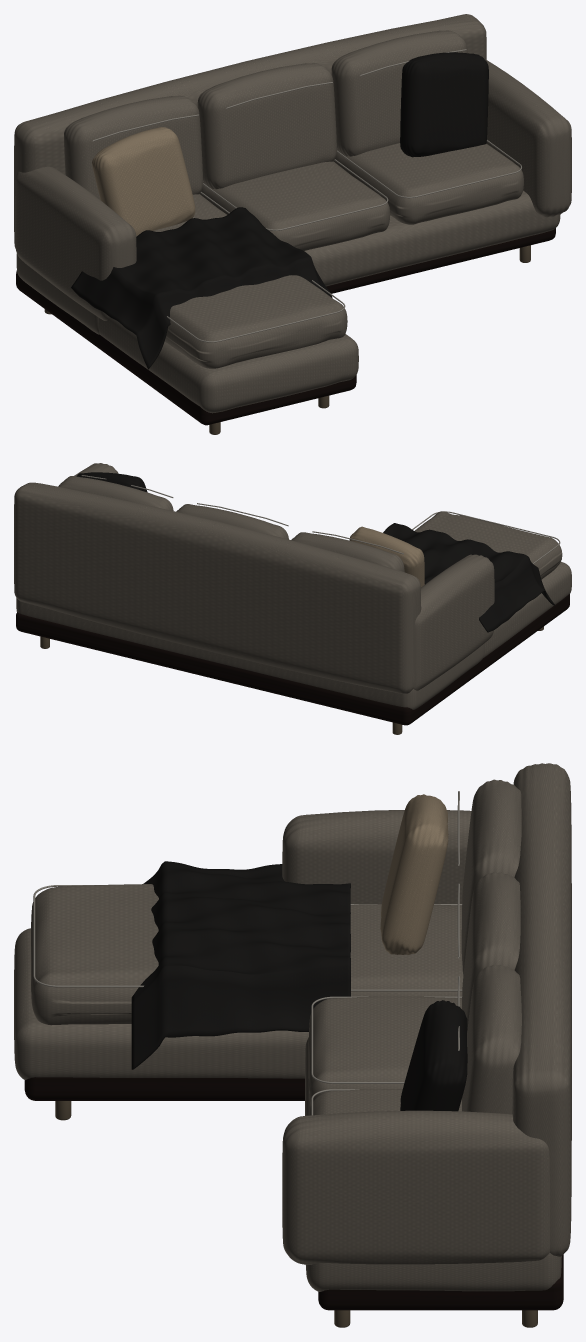
Rendered from sectional-sofa.glb.
The picture shows the model from 3 angles, top to bottom: view 1: azimuth 30°, elevation 25°; view 2: azimuth 150°, elevation 25°; view 3: azimuth 270°, elevation 25°; orthographic projection. The views are drawn at different scales.
Parts seen in each view (by area): view 1: Casually draped charcoal throw, Back pillow 1, Extended chaise cushion, Long upholstered apron, Rounded upholstered arm, Chaise upholstered apron, Seat cushion 1, Long upholstered back, Seat cushion 2, Decorative throw cushion 1, Back pillow 2, Rounded upholstered arm.001 (+5 smaller); view 2: Long upholstered back, Long walnut chassis, Rounded upholstered arm, Long upholstered apron, Casually draped charcoal throw, Extended chaise cushion, Chaise upholstered apron, Back pillow 0, Back pillow 2, Decorative throw cushion 0, Back pillow 1, Chaise walnut chassis (+1 smaller); view 3: Rounded upholstered arm.001, Casually draped charcoal throw, Long upholstered back, Extended chaise cushion, Chaise upholstered apron, Rounded upholstered arm, Seat cushion 1, Seat cushion 0, Decorative throw cushion 0, Long upholstered apron, Back pillow 2, Chaise walnut chassis (+5 smaller).
Boxes of the visible parts, left/top/right/bottom form: Casually draped charcoal throw: left=71, top=207, right=332, bottom=369; Back pillow 1: left=197, top=63, right=336, bottom=189; Extended chaise cushion: left=164, top=275, right=347, bottom=368; Long upholstered apron: left=16, top=190, right=560, bottom=334; Rounded upholstered arm: left=15, top=166, right=136, bottom=320; Chaise upholstered apron: left=99, top=317, right=358, bottom=413; Seat cushion 1: left=200, top=161, right=390, bottom=250; Long upholstered back: left=14, top=14, right=486, bottom=248; Seat cushion 2: left=333, top=143, right=523, bottom=224; Decorative throw cushion 1: left=400, top=52, right=488, bottom=157; Back pillow 2: left=331, top=30, right=467, bottom=156; Rounded upholstered arm.001: left=485, top=60, right=571, bottom=217; Long upholstered back: left=14, top=482, right=421, bottom=693; Long walnut chassis: left=16, top=612, right=479, bottom=725; Rounded upholstered arm: left=413, top=554, right=494, bottom=690; Long upholstered apron: left=16, top=598, right=484, bottom=709; Casually draped charcoal throw: left=383, top=523, right=554, bottom=632; Extended chaise cushion: left=414, top=511, right=562, bottom=579; Chaise upholstered apron: left=483, top=561, right=571, bottom=657; Back pillow 0: left=291, top=532, right=404, bottom=572; Back pillow 2: left=58, top=476, right=173, bottom=510; Decorative throw cushion 0: left=349, top=526, right=424, bottom=587; Back pillow 1: left=176, top=504, right=288, bottom=539; Chaise walnut chassis: left=444, top=594, right=569, bottom=698; Rounded upholstered arm.001: left=282, top=1110, right=549, bottom=1264; Casually draped charcoal throw: left=131, top=861, right=350, bottom=1069; Long upholstered back: left=512, top=763, right=571, bottom=1256; Extended chaise cushion: left=31, top=884, right=158, bottom=1025; Chaise upholstered apron: left=14, top=928, right=308, bottom=1079; Rounded upholstered arm: left=282, top=810, right=471, bottom=903; Seat cushion 1: left=308, top=996, right=461, bottom=1105; Seat cushion 0: left=350, top=904, right=463, bottom=996; Decorative throw cushion 0: left=380, top=794, right=448, bottom=954; Long upholstered apron: left=305, top=1037, right=561, bottom=1291; Back pillow 2: left=462, top=965, right=521, bottom=1114; Chaise walnut chassis: left=24, top=1077, right=304, bottom=1100.
Bounding box in the file's own units: 3.28 × 1.29 × 2.32.
6 materials, 4 textured.
